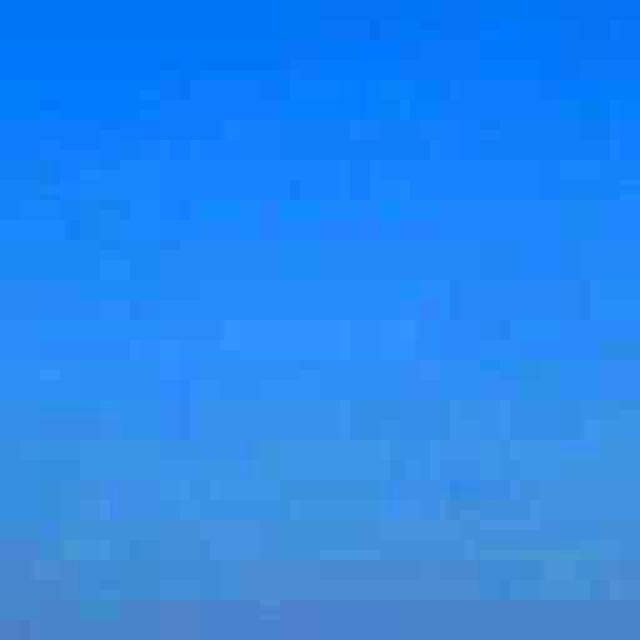bird: (310, 0, 378, 21)
